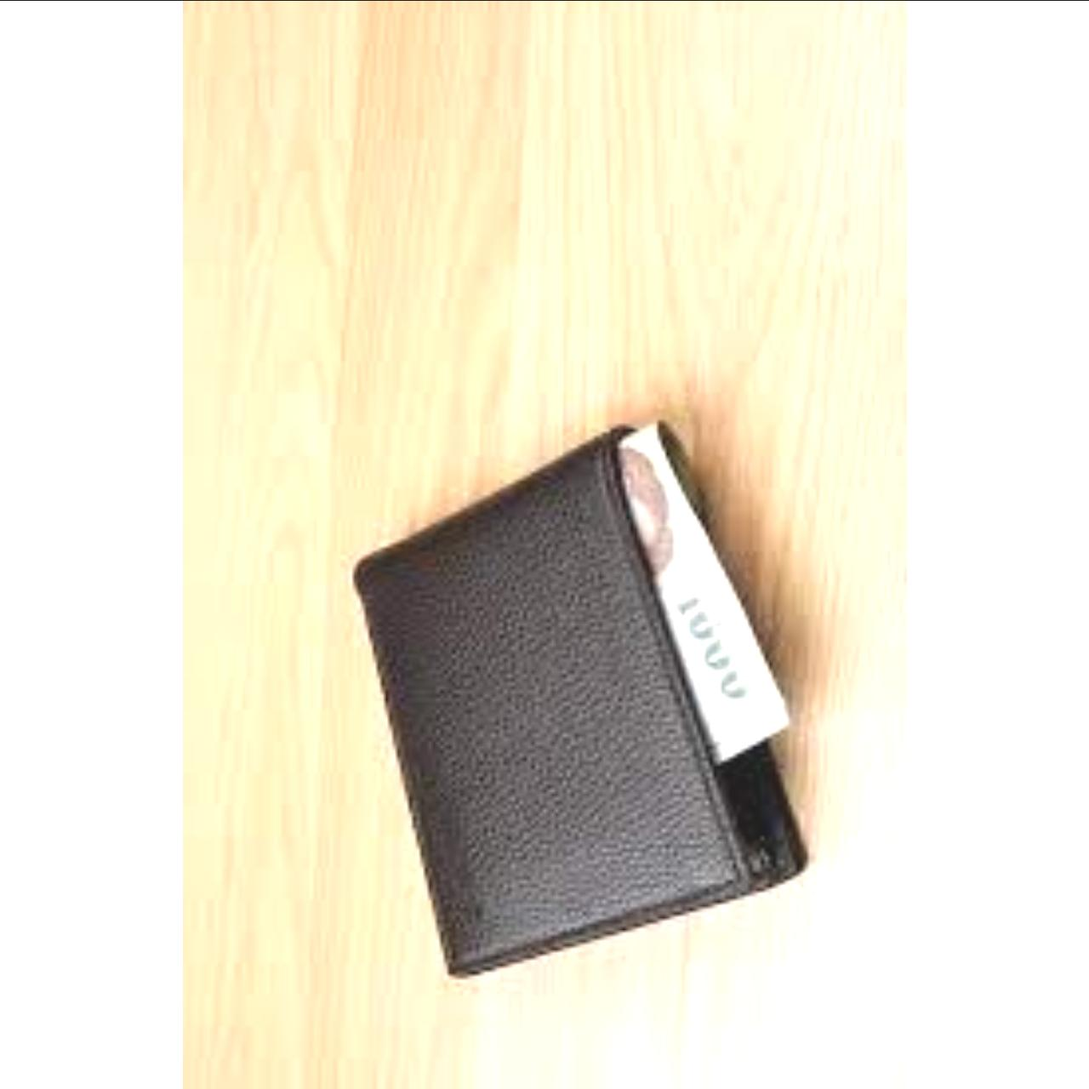wallet: (357, 293, 764, 1029)
